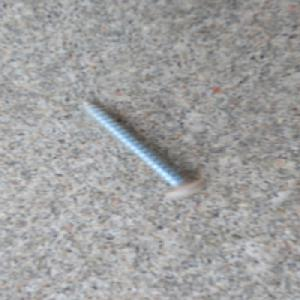Screw: (80, 97, 209, 201)
